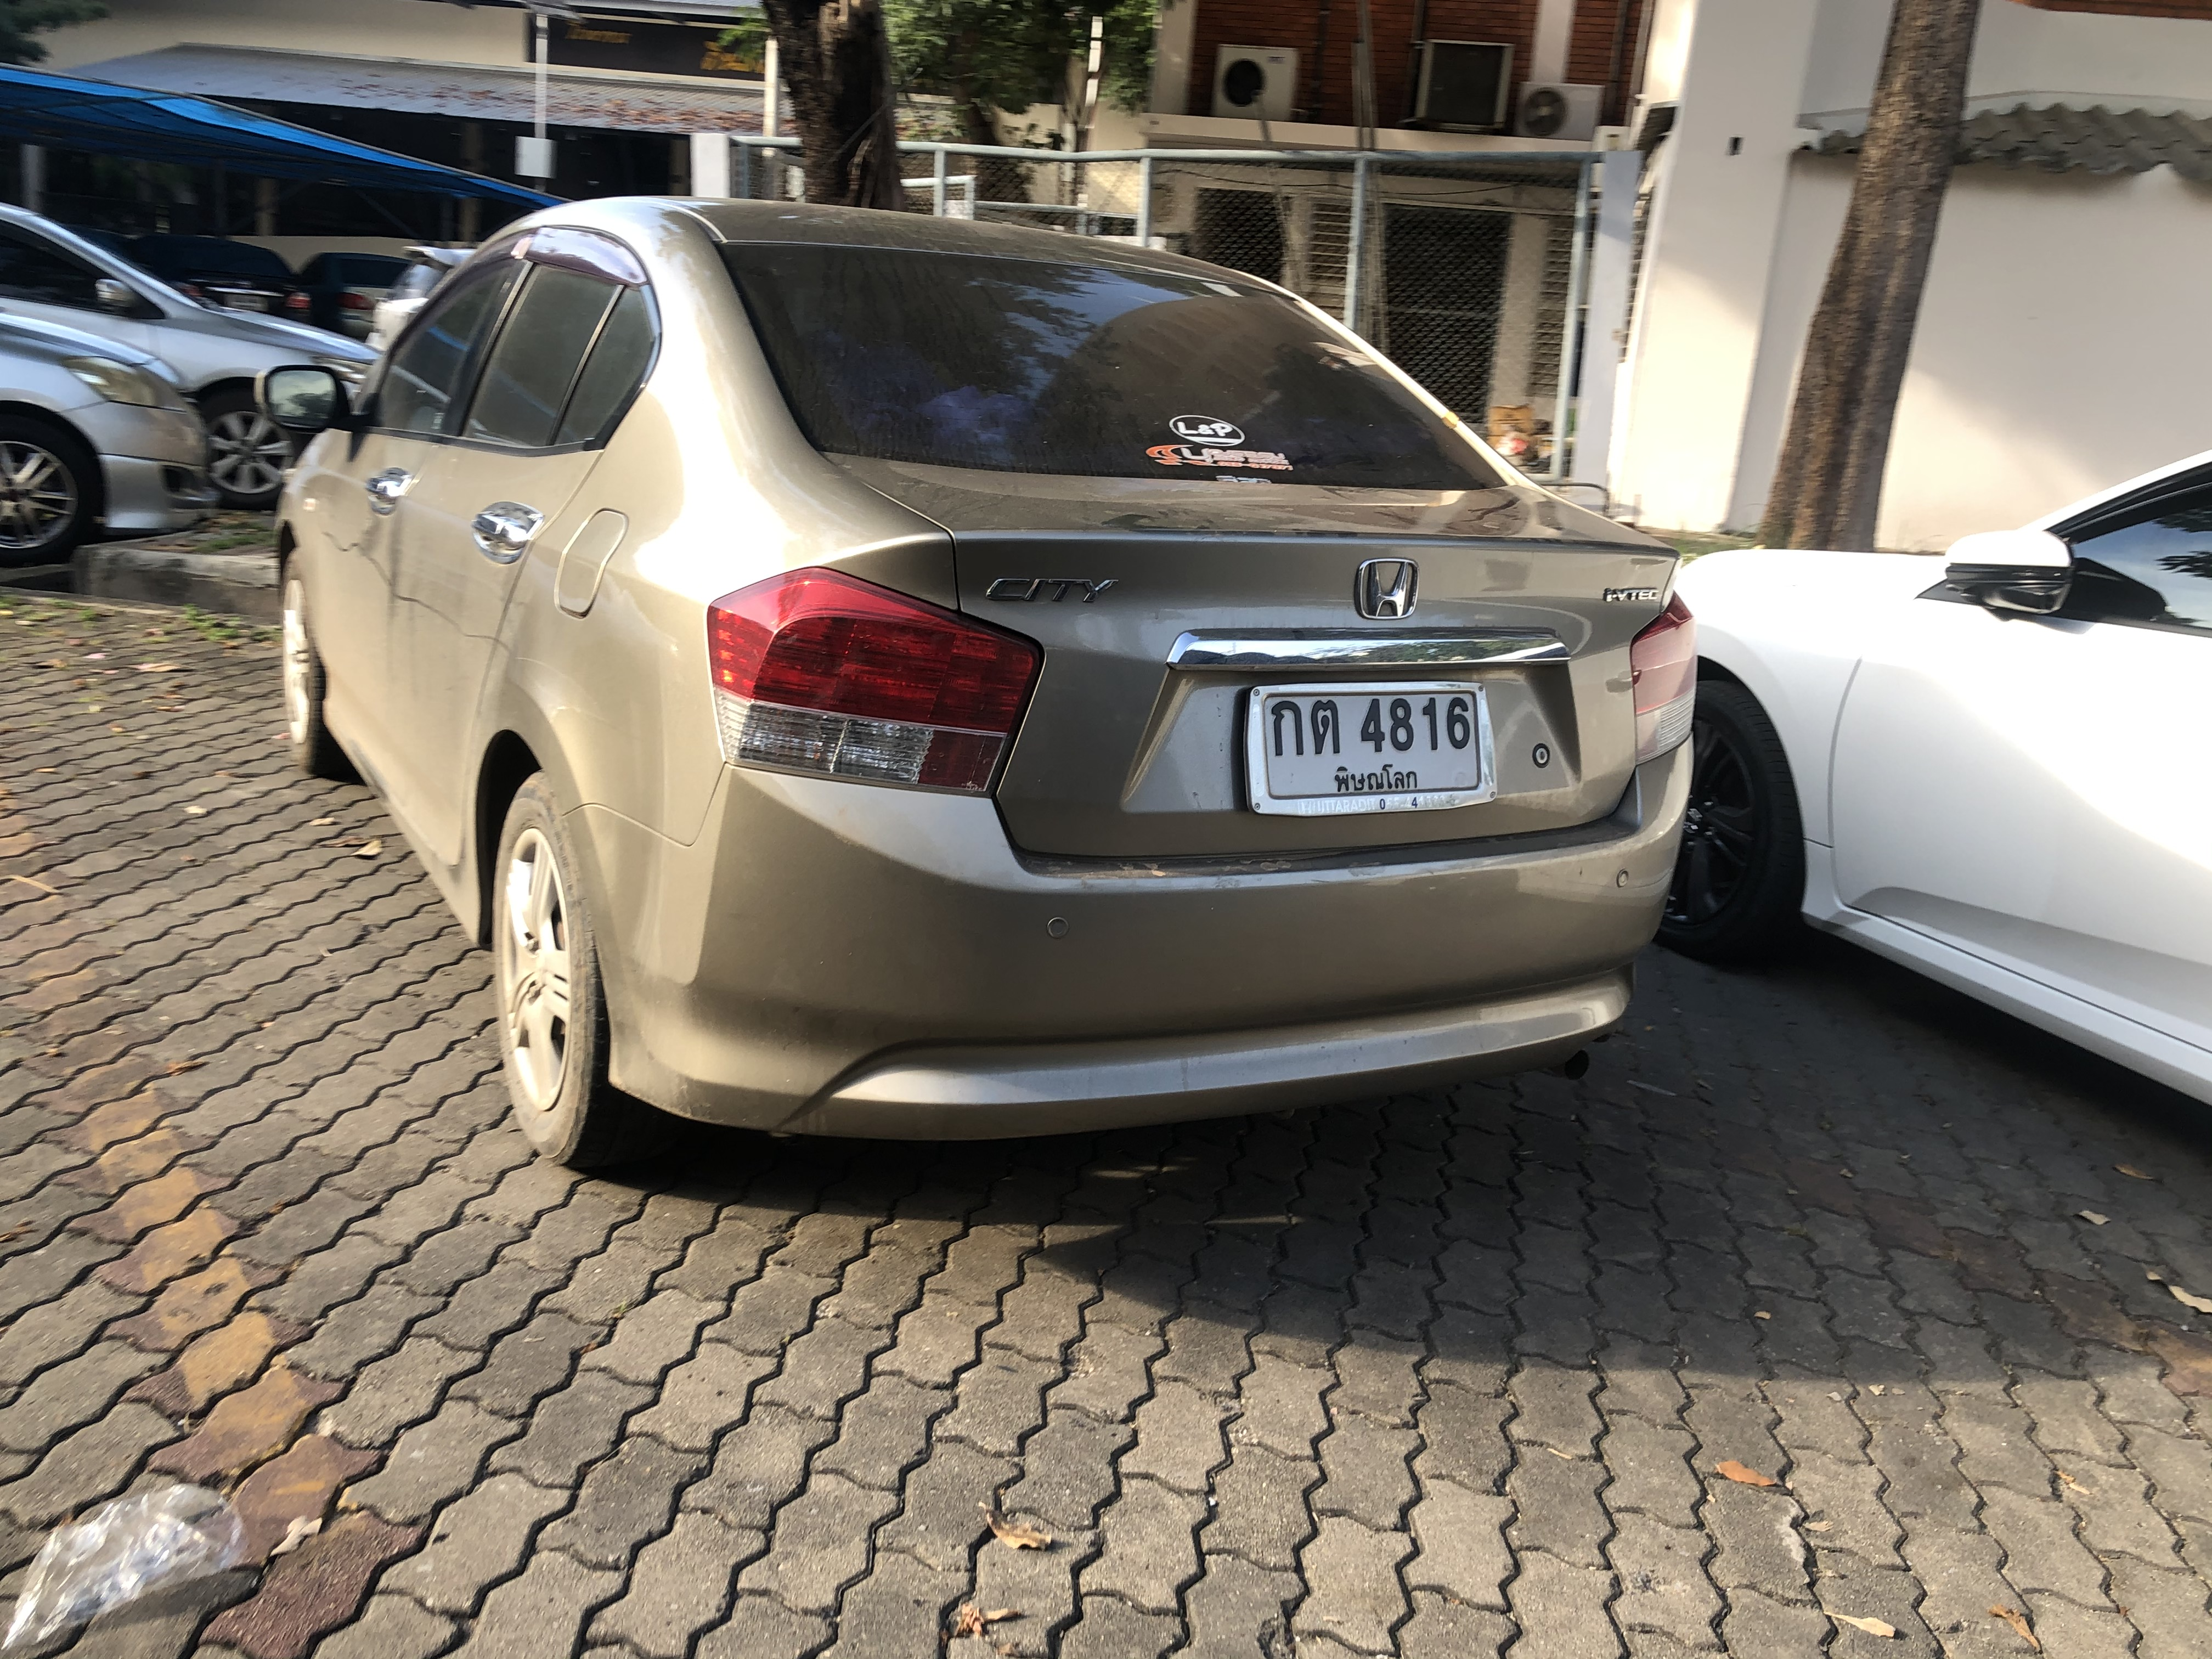in: (1263, 695, 1484, 795)
out: (1245, 680, 1501, 821)
